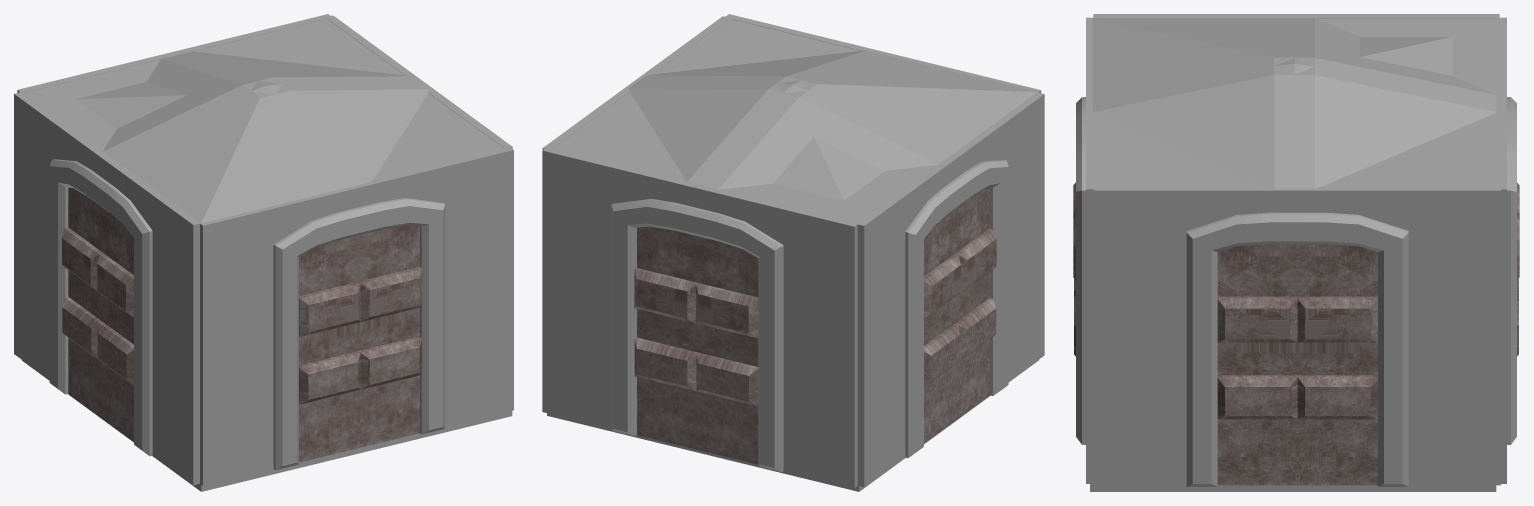
File: Trial_Room.fbx
3 views of the same model, side by side, from view 1: azimuth 30°, elevation 25°; view 2: azimuth 150°, elevation 25°; view 3: azimuth 270°, elevation 25° (orthographic). The views are drawn at different scales.
Parts seen in each view (by area): view 1: Trial_Room_Door_Frame1, Trial_Room_Roof, Trial_Room_Door_Frame2, Trial_Room_Door2, Trial_Room_Door3, Trial_Room_Door4, Trial_Room_Door5, Trial_Room_Floor, Trial_Room_Door_Frame, Trial_Room_Door_Frame3; view 2: Trial_Room_Door_Frame, Trial_Room_Roof, Trial_Room_Door_Frame2, Trial_Room_Door, Trial_Room_Door1, Trial_Room_Door5, Trial_Room_Door4, Trial_Room_Door_Frame3, Trial_Room_Door_Frame1, Trial_Room_Floor; view 3: Trial_Room_Door_Frame3, Trial_Room_Roof, Trial_Room_Door7, Trial_Room_Door6, Trial_Room_Door_Frame1, Trial_Room_Door_Frame, Trial_Room_Floor, Trial_Room_Door_Frame2.
Part boxes in pixels (bbox=[...]): Trial_Room_Door_Frame1: bbox=[199, 146, 513, 485]; Trial_Room_Roof: bbox=[24, 19, 503, 231]; Trial_Room_Door_Frame2: bbox=[14, 92, 200, 485]; Trial_Room_Door2: bbox=[358, 225, 422, 447]; Trial_Room_Door3: bbox=[299, 235, 360, 462]; Trial_Room_Door4: bbox=[62, 187, 103, 419]; Trial_Room_Door5: bbox=[97, 208, 133, 441]; Trial_Room_Floor: bbox=[22, 360, 512, 491]; Trial_Room_Door_Frame: bbox=[17, 14, 331, 92]; Trial_Room_Door_Frame3: bbox=[326, 15, 512, 148]; Trial_Room_Door_Frame: bbox=[542, 147, 858, 487]; Trial_Room_Roof: bbox=[553, 19, 1036, 222]; Trial_Room_Door_Frame2: bbox=[857, 92, 1044, 487]; Trial_Room_Door: bbox=[634, 226, 698, 449]; Trial_Room_Door1: bbox=[696, 236, 758, 464]; Trial_Room_Door5: bbox=[954, 188, 996, 420]; Trial_Room_Door4: bbox=[924, 209, 960, 443]; Trial_Room_Door_Frame3: bbox=[542, 16, 729, 149]; Trial_Room_Door_Frame1: bbox=[725, 14, 1041, 92]; Trial_Room_Floor: bbox=[547, 359, 1039, 491]; Trial_Room_Door_Frame3: bbox=[1094, 186, 1500, 486]; Trial_Room_Roof: bbox=[1091, 18, 1496, 198]; Trial_Room_Door7: bbox=[1297, 244, 1377, 485]; Trial_Room_Door6: bbox=[1217, 244, 1297, 485]; Trial_Room_Door_Frame1: bbox=[1076, 17, 1096, 483]; Trial_Room_Door_Frame: bbox=[1496, 17, 1516, 483]; Trial_Room_Floor: bbox=[1090, 482, 1496, 491]; Trial_Room_Door_Frame2: bbox=[1093, 14, 1499, 18].
Bounding box in the file's own units: 21.83 × 18.59 × 21.96.
